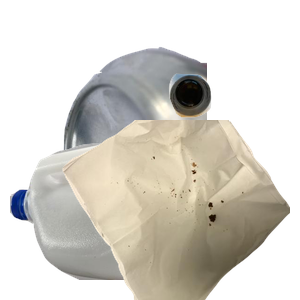glass: (166, 71, 300, 181)
metal: (60, 44, 300, 224)
plastic: (10, 120, 250, 300)
trash: (60, 120, 300, 300)
